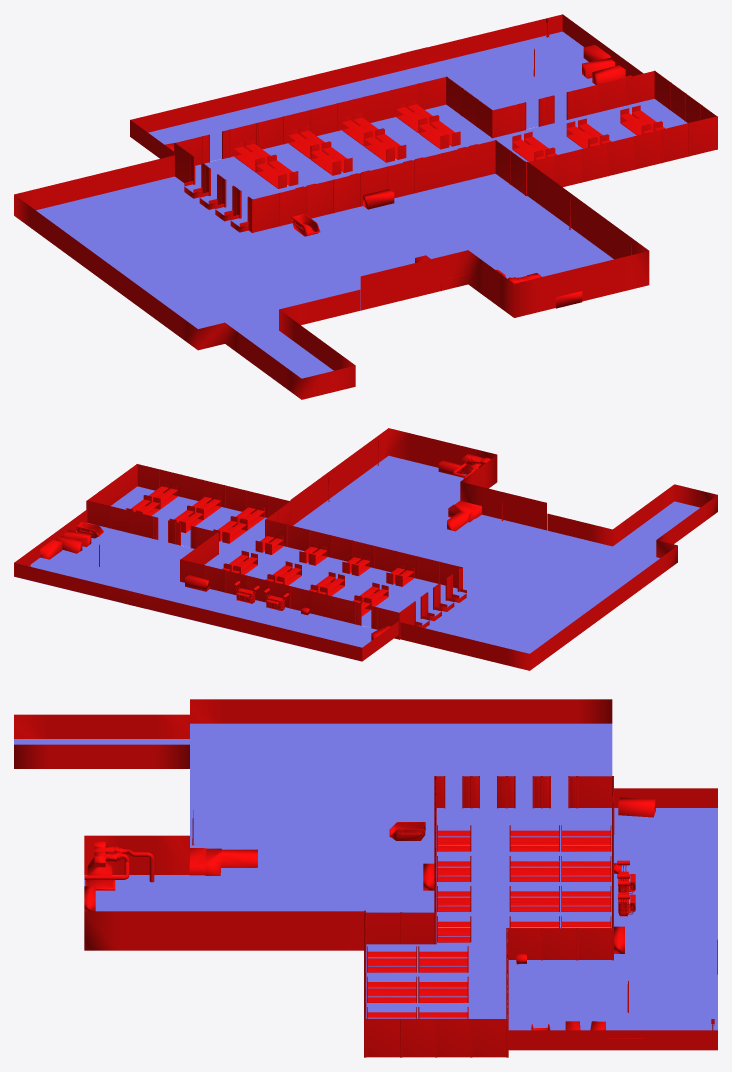
File: colmesh.fbx
3 views of the same model, one above another, from view 1: azimuth 30°, elevation 25°; view 2: azimuth 150°, elevation 25°; view 3: azimuth 270°, elevation 25° (orthographic). The views are drawn at different scales.
Visible parts, largest first — view 1: Mesh, Mesh_ncl1_1; view 2: Mesh, Mesh_ncl1_1; view 3: Mesh_ncl1_1, Mesh.
Boxes of the visible parts, left/top/right/bottom form: Mesh: left=14, top=14, right=717, bottom=399; Mesh_ncl1_1: left=36, top=31, right=687, bottom=378; Mesh: left=14, top=428, right=717, bottom=670; Mesh_ncl1_1: left=14, top=455, right=699, bottom=661; Mesh_ncl1_1: left=14, top=723, right=717, bottom=1030; Mesh: left=14, top=699, right=717, bottom=1057.
Bounding box in the file's own units: 16014 × 945 × 14278.
